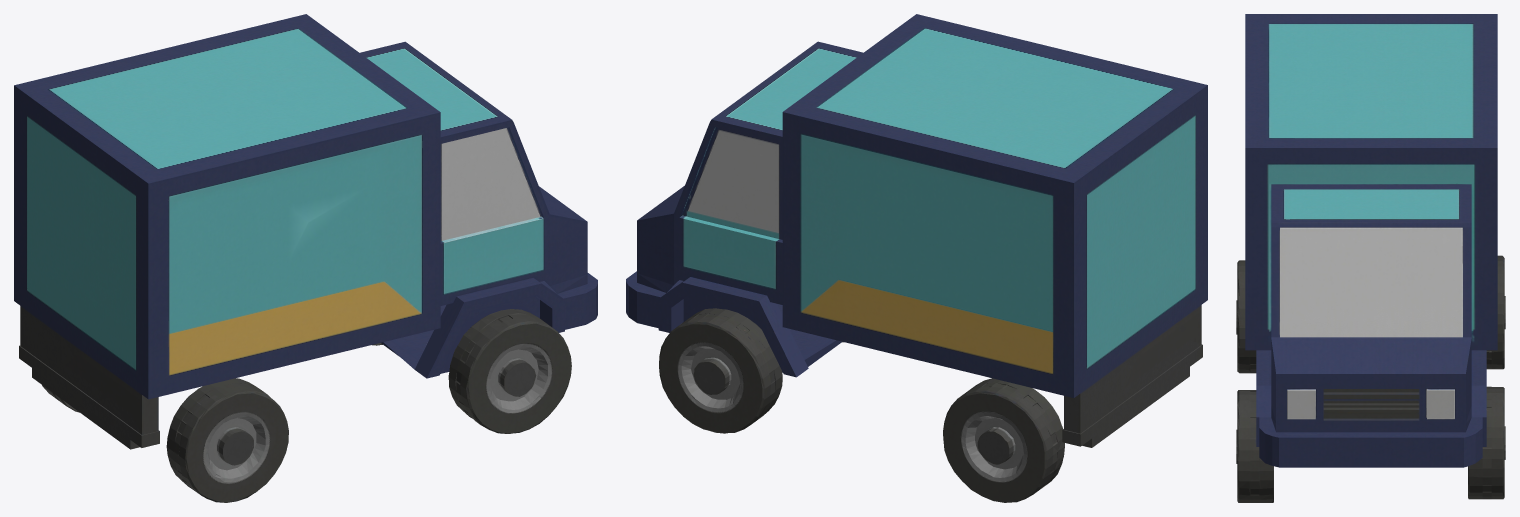
The model's file is delivery-truck.gltf.
3 renders of one model, left to right at view 1: azimuth 30°, elevation 25°; view 2: azimuth 150°, elevation 25°; view 3: azimuth 270°, elevation 25°, orthographic. The views are drawn at different scales.
Visible parts, largest first — view 1: tripo_node_f057d457-520b-42d7-bea0-31112bb3b248; view 2: tripo_node_f057d457-520b-42d7-bea0-31112bb3b248; view 3: tripo_node_f057d457-520b-42d7-bea0-31112bb3b248.
Boxes of the visible parts, x1,y1,x2,y2 form: tripo_node_f057d457-520b-42d7-bea0-31112bb3b248: (14,14,597,502); tripo_node_f057d457-520b-42d7-bea0-31112bb3b248: (626,14,1207,502); tripo_node_f057d457-520b-42d7-bea0-31112bb3b248: (1236,14,1505,502).
Bounding box in the file's own units: 0.998 × 0.6855 × 0.5293.
1 material, 1 textured.
